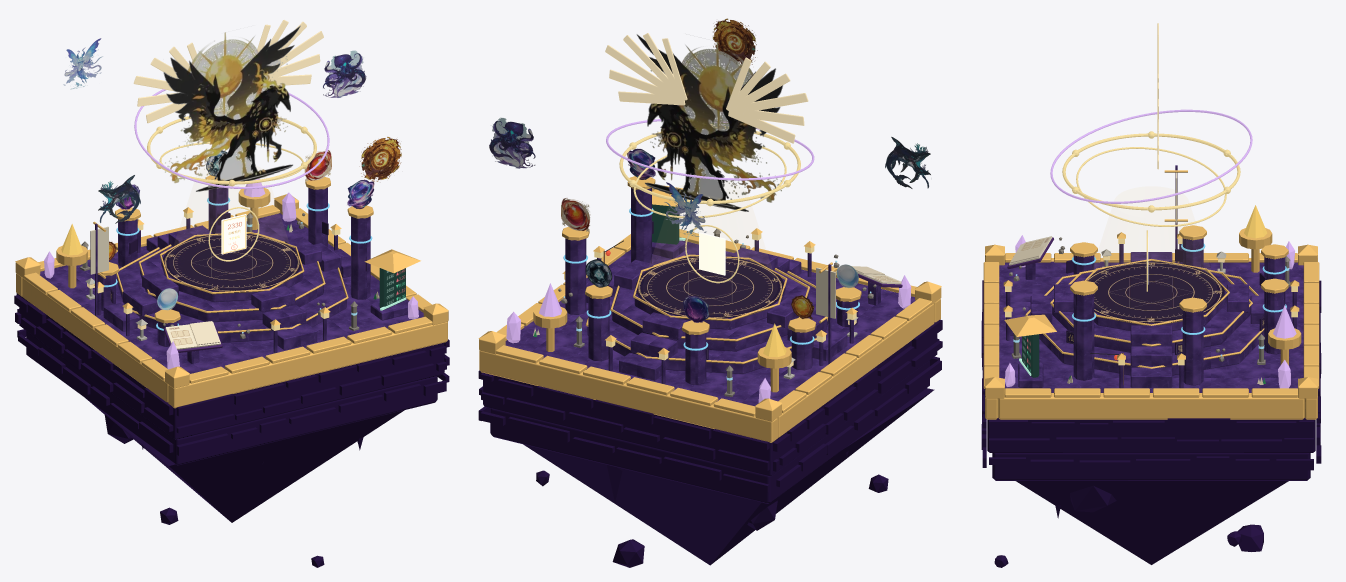
Rendered from stockgame.glb.
The picture shows the model from 3 angles, left to right: view 1: azimuth 30°, elevation 25°; view 2: azimuth 150°, elevation 25°; view 3: azimuth 270°, elevation 25°; orthographic projection. The views are drawn at different scales.
Visible parts, largest first — view 1: altar_violet_dark, altar_violet, altar_gold, beast_card_beast_main, fx_sigil_sigil, fxhide_wingr_wing, fxhide_wingl_wing, codex0_card_codex_0, codex3_card_codex_3, altar_spirit_violet, ringa_spirit_gold, codex2_card_codex_2 (+10 smaller); view 2: altar_violet_dark, altar_violet, altar_gold, beast_card_beast_main, fx_sigil_sigil, fxhide_wingr_wing, fxhide_wingl_wing, codex0_card_codex_0, codex3_card_codex_3, ringa_spirit_gold, codex2_card_codex_2, card_card (+10 smaller); view 3: altar_violet_dark, altar_violet, altar_gold, fx_sigil_sigil, ringa_spirit_gold, ringb_spirit_violet, props_props_palette, ringc_spirit_gold, fx_stelecap_gold, altar_spirit_violet, altar_quote, altar_pillar_glow (+1 smaller).
Part boxes in pixels (x1,y1,x2,y2): altar_violet_dark: [14, 293, 449, 567]; altar_violet: [40, 187, 423, 373]; altar_gold: [15, 175, 448, 408]; beast_card_beast_main: [163, 25, 300, 191]; fx_sigil_sigil: [162, 234, 301, 292]; fxhide_wingr_wing: [257, 20, 323, 85]; fxhide_wingl_wing: [133, 42, 203, 123]; codex0_card_codex_0: [323, 50, 366, 97]; codex3_card_codex_3: [359, 137, 401, 182]; altar_spirit_violet: [44, 192, 418, 369]; ringa_spirit_gold: [147, 109, 316, 186]; codex2_card_codex_2: [98, 175, 140, 223]; altar_violet_dark: [478, 319, 942, 567]; altar_violet: [505, 187, 915, 406]; altar_gold: [478, 176, 941, 442]; beast_card_beast_main: [636, 34, 782, 211]; fx_sigil_sigil: [635, 256, 784, 318]; fxhide_wingr_wing: [605, 33, 687, 105]; fxhide_wingl_wing: [726, 57, 808, 143]; codex0_card_codex_0: [489, 117, 535, 168]; codex3_card_codex_3: [713, 18, 757, 64]; ringa_spirit_gold: [619, 124, 800, 206]; codex2_card_codex_2: [885, 136, 931, 188]; card_card: [699, 232, 725, 275]; altar_violet_dark: [981, 280, 1321, 567]; altar_violet: [999, 165, 1303, 392]; altar_gold: [983, 170, 1319, 419]; fx_sigil_sigil: [1084, 261, 1224, 323]; ringa_spirit_gold: [1062, 131, 1240, 212]; ringb_spirit_violet: [1050, 109, 1252, 203]; props_props_palette: [1009, 237, 1290, 384]; ringc_spirit_gold: [1076, 147, 1226, 226]; fx_stelecap_gold: [1004, 314, 1056, 336]; altar_spirit_violet: [1005, 235, 1294, 388]; altar_quote: [1022, 334, 1039, 377]; altar_pillar_glow: [1072, 243, 1286, 334].
Bounding box in the file's own units: 4.96 × 6.84 × 4.33.
35 materials, 31 textured.
